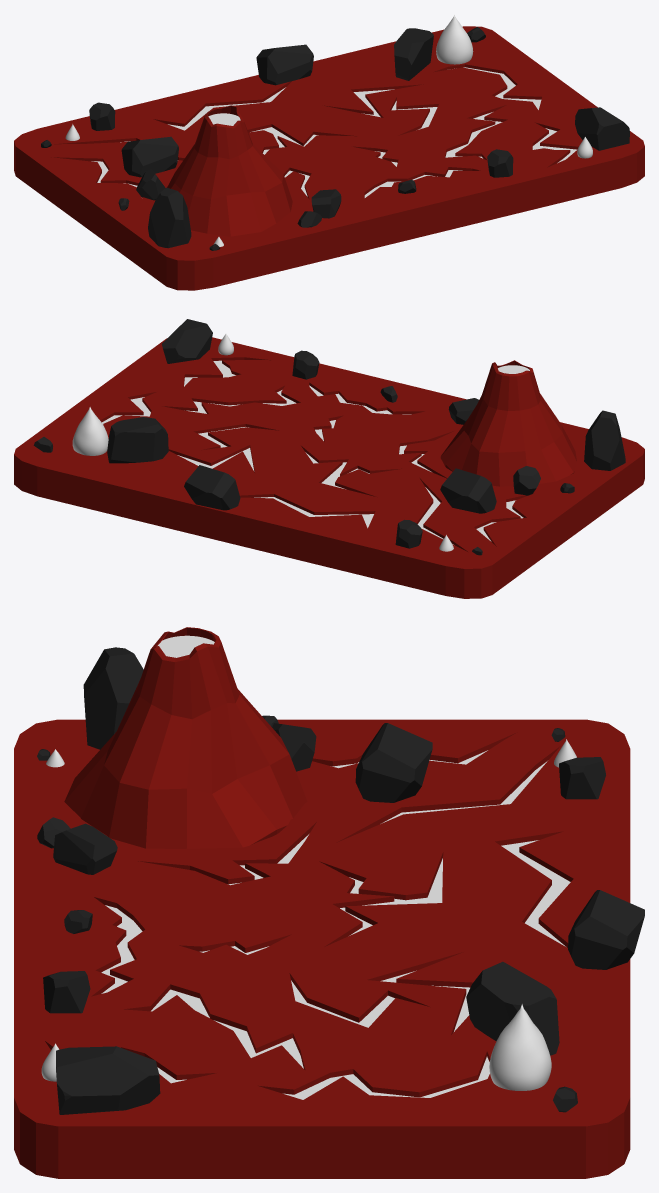
Rendered from Habitat_Remake_fogo_restaurado_.fbx.
3 views of the same model, one above another, from view 1: azimuth 30°, elevation 25°; view 2: azimuth 150°, elevation 25°; view 3: azimuth 270°, elevation 25° (orthographic). The views are drawn at different scales.
Visible parts, largest first — view 1: plataforma, vulcão, Plane, Pedra1.001, pedra9.002, pedra9.001, Pedra1.002, pedra3.002, fogo, pedra9.003, pedra2.002, pedra2.001 (+1 smaller); view 2: plataforma, vulcão, Plane, pedra3.002, Pedra1.001, pedra9.001, pedra9.002, Pedra1.002, fogo, pedra2.004, pedra2.002, pedra2.001 (+1 smaller); view 3: plataforma, vulcão, Plane, Pedra1.002, pedra3.002, pedra9.001, pedra9.002, Pedra1.001, fogo, pedra9.003, pedra2.001, pedra2.002 (+2 smaller).
Boxes of the visible parts, left/top/right/bottom form: plataforma: left=14, top=26, right=644, bottom=290; vulcão: left=167, top=105, right=292, bottom=236; Plane: left=91, top=67, right=576, bottom=197; Pedra1.001: left=148, top=187, right=191, bottom=248; pedra9.002: left=256, top=44, right=313, bottom=85; pedra9.001: left=121, top=136, right=178, bottom=177; Pedra1.002: left=575, top=107, right=629, bottom=150; pedra3.002: left=394, top=28, right=433, bottom=80; fogo: left=436, top=15, right=473, bottom=64; pedra9.003: left=311, top=189, right=341, bottom=218; pedra2.002: left=487, top=149, right=513, bottom=177; pedra2.001: left=89, top=102, right=115, bottom=130; plataforma: left=14, top=337, right=644, bottom=598; vulcão: left=440, top=360, right=576, bottom=486; Plane: left=102, top=360, right=523, bottom=544; pedra3.002: left=107, top=417, right=168, bottom=463; Pedra1.001: left=584, top=410, right=625, bottom=470; pedra9.001: left=440, top=468, right=496, bottom=513; pedra9.002: left=184, top=465, right=240, bottom=510; Pedra1.002: left=162, top=319, right=212, bottom=363; fogo: left=72, top=407, right=108, bottom=455; pedra2.004: left=513, top=466, right=540, bottom=495; pedra2.002: left=292, top=350, right=319, bottom=379; pedra2.001: left=395, top=519, right=422, bottom=548; plataforma: left=14, top=719, right=630, bottom=1178; vulcão: left=64, top=627, right=307, bottom=848; Plane: left=101, top=750, right=570, bottom=1099; Pedra1.002: left=56, top=1046, right=160, bottom=1114; pedra3.002: left=466, top=961, right=559, bottom=1055; pedra9.001: left=355, top=723, right=432, bottom=802; pedra9.002: left=568, top=890, right=644, bottom=969; Pedra1.001: left=83, top=647, right=143, bottom=749; fogo: left=489, top=1004, right=551, bottom=1090; pedra9.003: left=53, top=823, right=117, bottom=874; pedra2.001: left=559, top=757, right=605, bottom=799; pedra2.002: left=43, top=971, right=90, bottom=1013.
Size of the model in its own units: 500 by 125 by 328.
